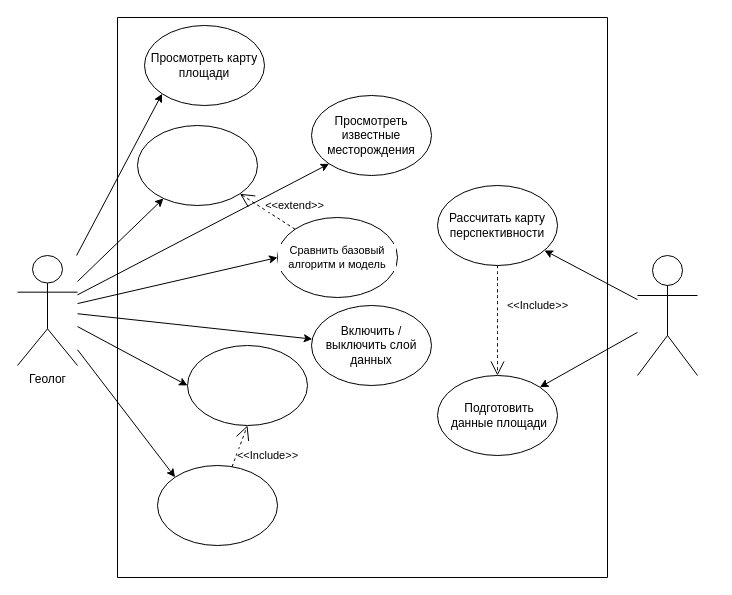
This 732x595 diagram has some shape labels left out. The centre of each missing label's shape, as x and y in pixels:
"Инженер данных" belongs at (x=667, y=315).
"Получить оценку ячейки" belongs at (x=217, y=505).
"Просмотреть вклад признаков" belongs at (x=247, y=385).
"Просмотреть карту перспективности" belongs at (x=197, y=165).
